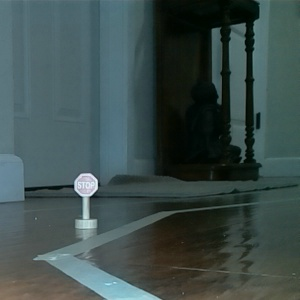stop sign: (69, 169, 103, 230)
